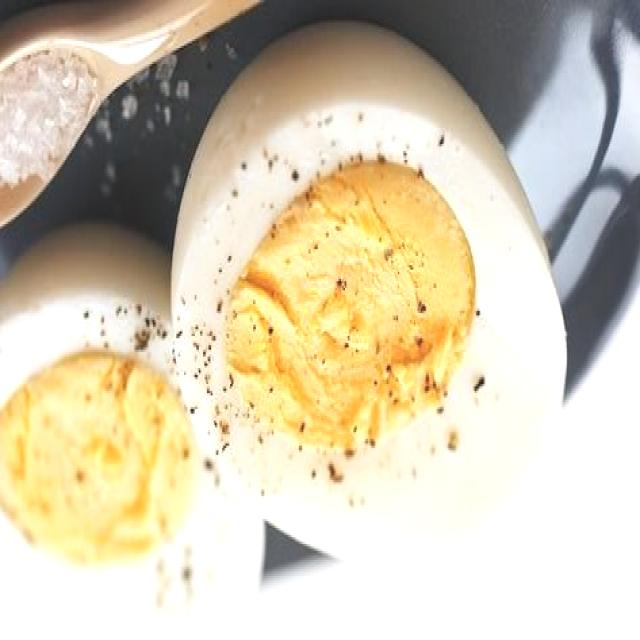telur rebus: (166, 14, 568, 567)
